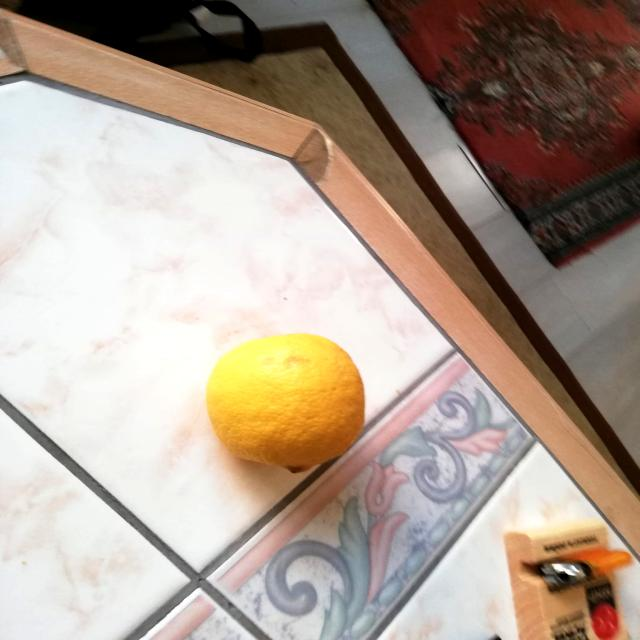lemon: (205, 323, 376, 482)
